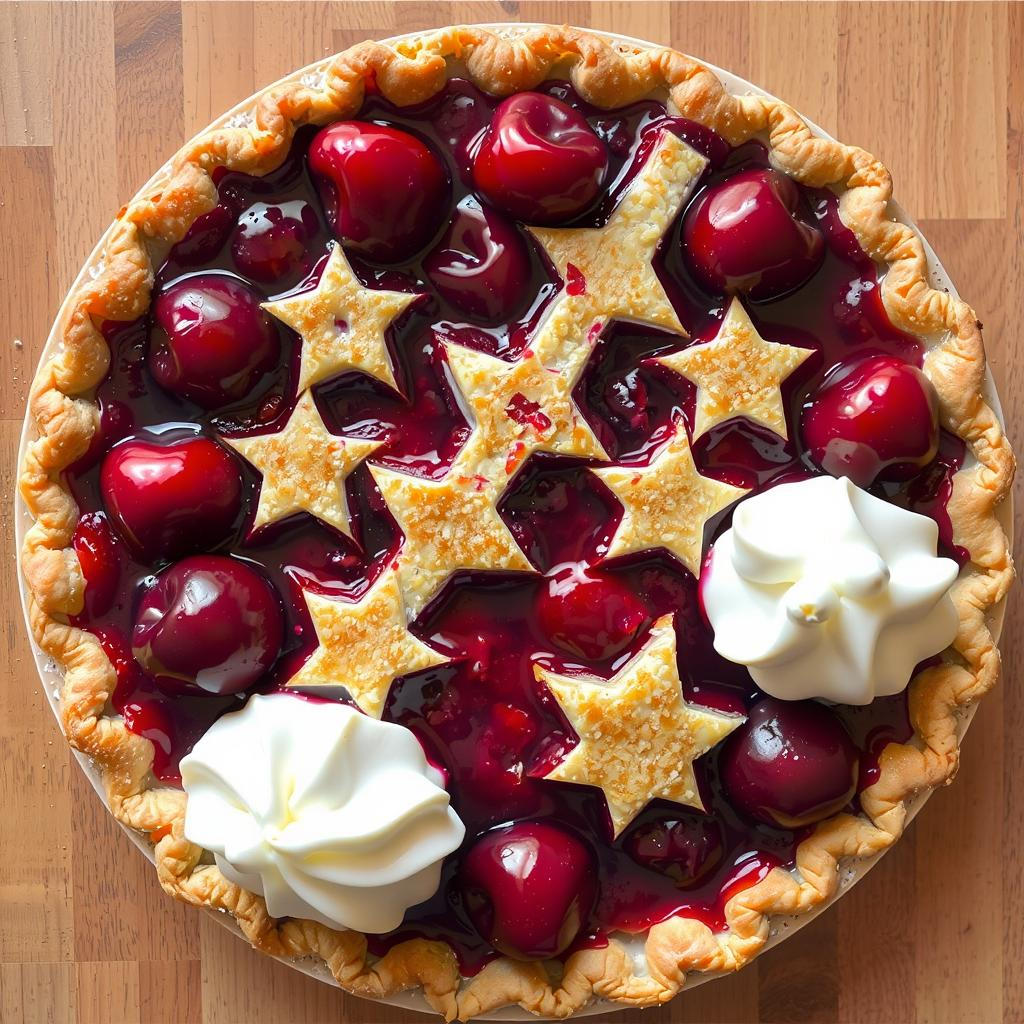pie: (17, 23, 1020, 1016)
